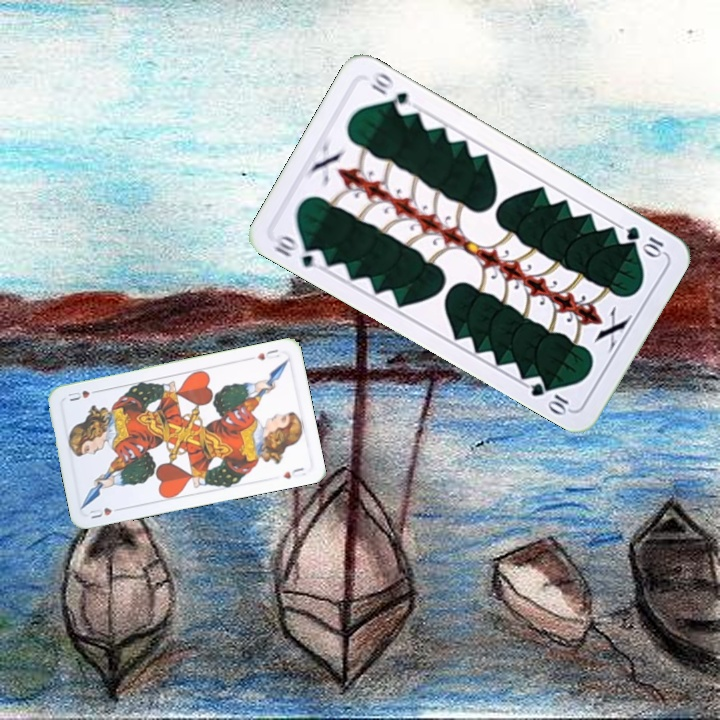G10: (270, 231, 328, 272), (622, 222, 667, 259)
HU: (85, 503, 125, 521), (253, 345, 282, 363)
